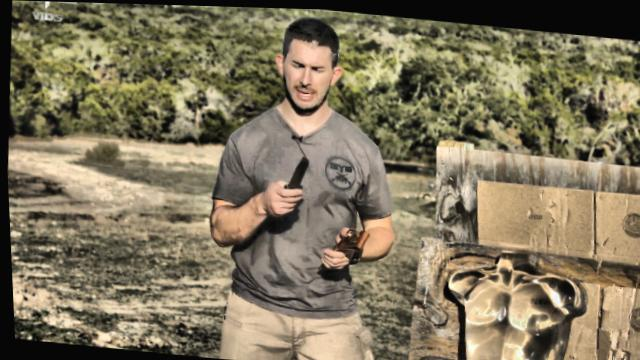knife: (260, 145, 318, 221)
